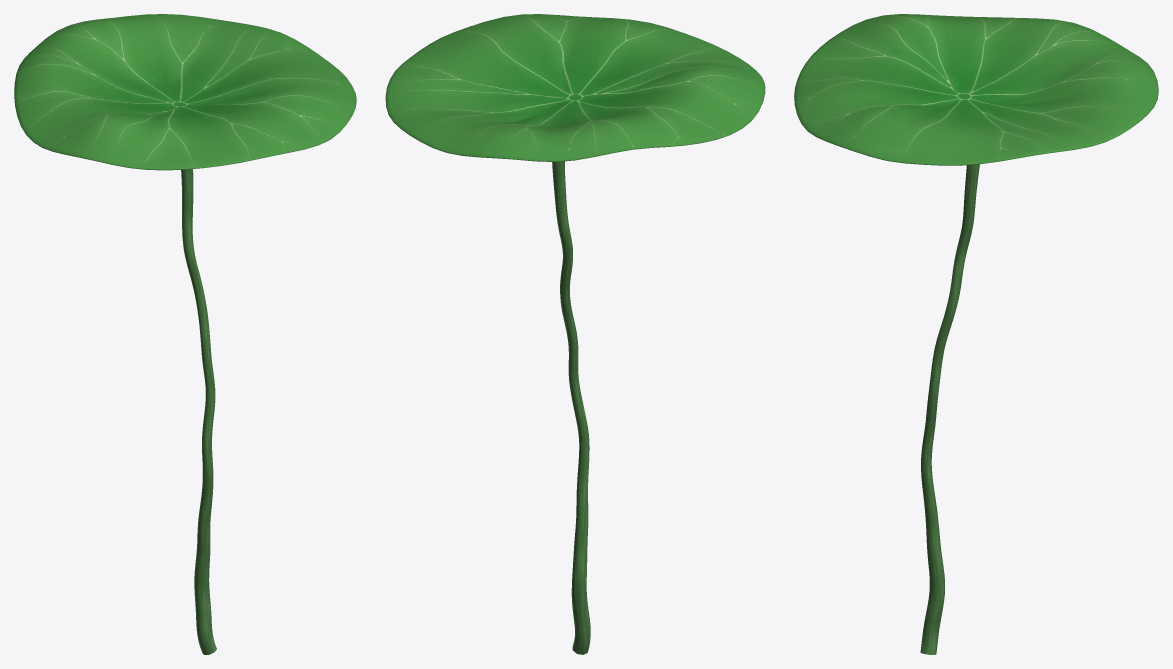
Rendered from Lotus Leaf.fbx.
The picture shows the model from 3 angles, left to right: view 1: azimuth 30°, elevation 25°; view 2: azimuth 150°, elevation 25°; view 3: azimuth 270°, elevation 25°; orthographic projection. The views are drawn at different scales.
Parts seen in each view (by area): view 1: lotusLeaf_Leaf_0, lotusLeaf_Root_0; view 2: lotusLeaf_Leaf_0, lotusLeaf_Root_0; view 3: lotusLeaf_Leaf_0, lotusLeaf_Root_0.
Part boxes in pixels (x1,y1,x2,y2): lotusLeaf_Leaf_0: (14,14,356,170); lotusLeaf_Root_0: (181,169,216,654); lotusLeaf_Leaf_0: (385,14,765,161); lotusLeaf_Root_0: (552,161,590,654); lotusLeaf_Leaf_0: (794,14,1158,165); lotusLeaf_Root_0: (920,164,979,654).
Bounding box in the file's own units: 276 × 495 × 281.
Materials: 2 (2 with a texture image).
